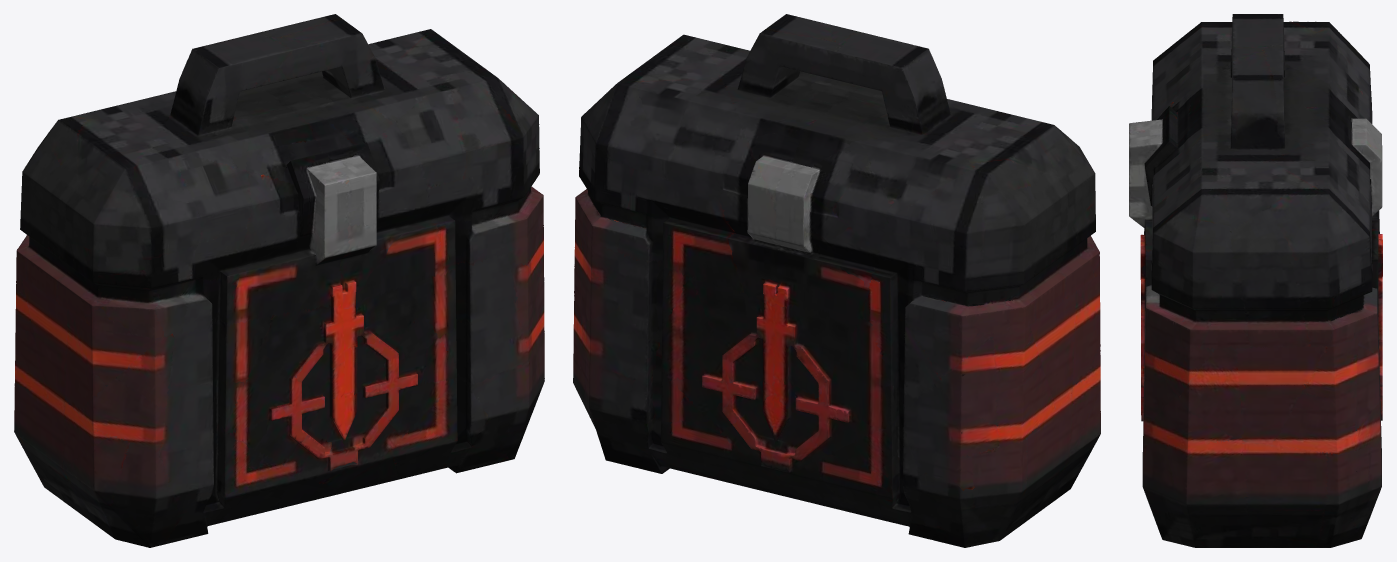
Rendered from item_weapon_kit.glb.
3 renders of one model, left to right at view 1: azimuth 30°, elevation 25°; view 2: azimuth 150°, elevation 25°; view 3: azimuth 270°, elevation 25°, orthographic. The views are drawn at different scales.
Size of the model in its own units: 1.9 by 1.71 by 0.971.
1 material, 1 textured.
